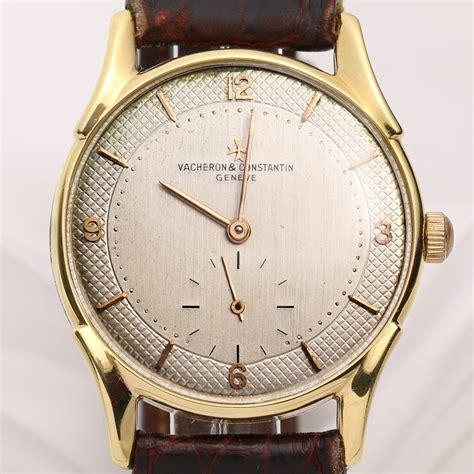Watch: (42, 4, 454, 474)
